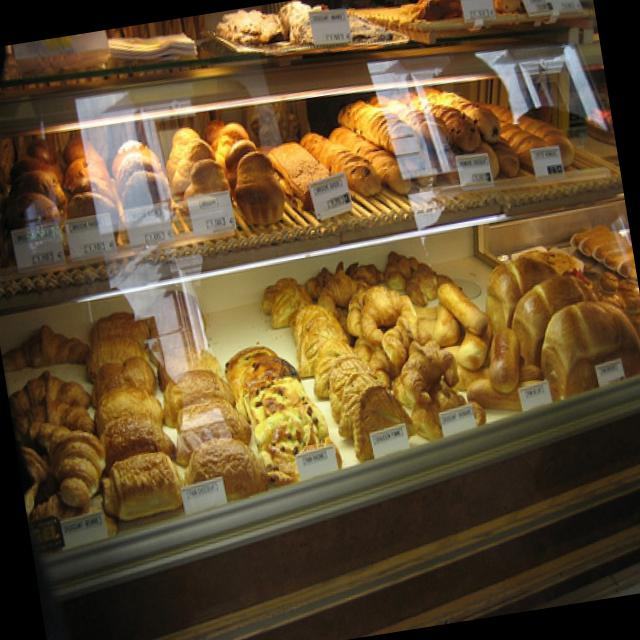French bread: (329, 82, 572, 191), (297, 128, 382, 196)
bread: (304, 251, 481, 437), (260, 275, 413, 457), (86, 311, 182, 520), (157, 343, 267, 497), (415, 283, 549, 409), (228, 346, 344, 481), (9, 370, 100, 521), (164, 116, 284, 223), (110, 137, 169, 220)
bread roll: (1, 323, 87, 369)
cookies: (214, 0, 385, 43)
loaf occluded: (538, 298, 640, 398), (508, 270, 597, 362), (485, 254, 557, 337)
price: (184, 189, 234, 234), (307, 171, 350, 218), (307, 6, 350, 44), (453, 150, 491, 190), (527, 142, 563, 175)
